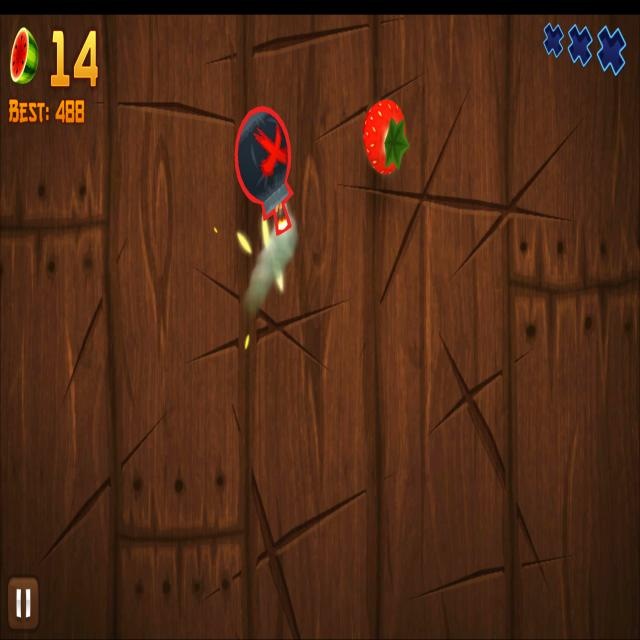bomb: (234, 106, 292, 234)
fruit: (362, 100, 407, 174)
